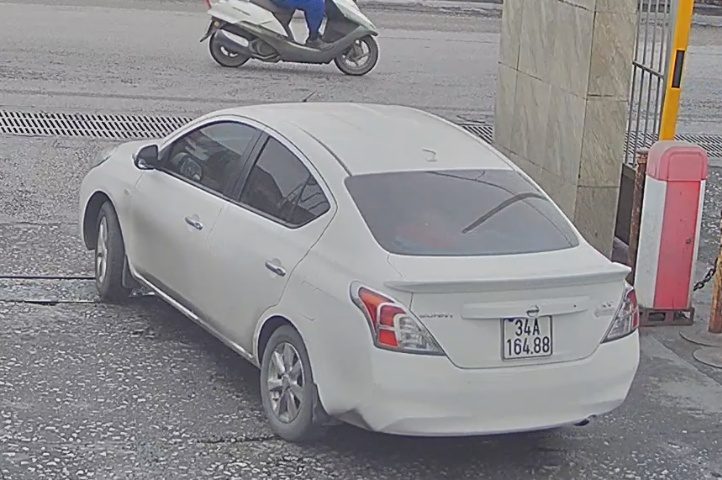vehicle plate: (497, 309, 556, 360)
